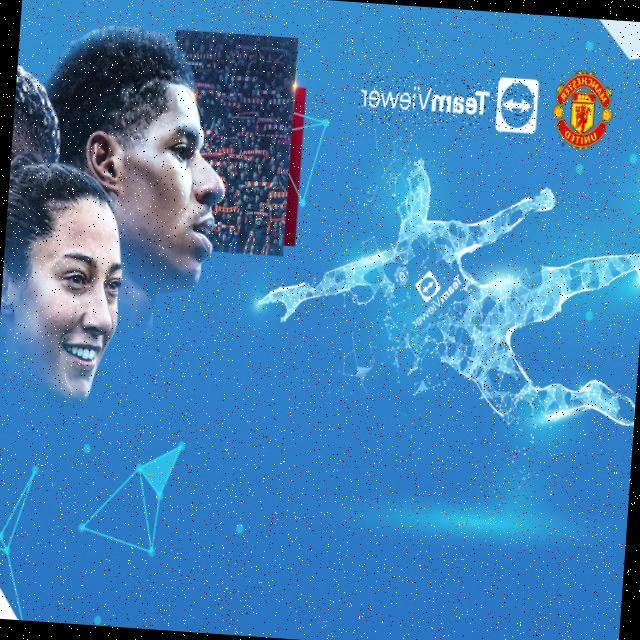TeamViewer: (355, 69, 537, 135)
